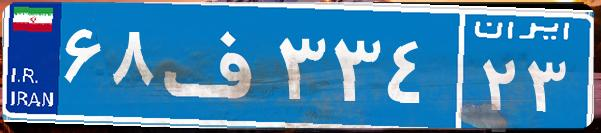2: (475, 38, 525, 113)
3: (273, 28, 330, 110), (330, 28, 385, 110), (525, 38, 570, 115)
4: (385, 28, 445, 110)
6: (57, 26, 110, 107)
8: (110, 28, 158, 105)
ف: (158, 15, 273, 115)
